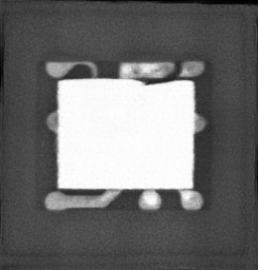DIE_BROKEN: (134, 76, 179, 86)
